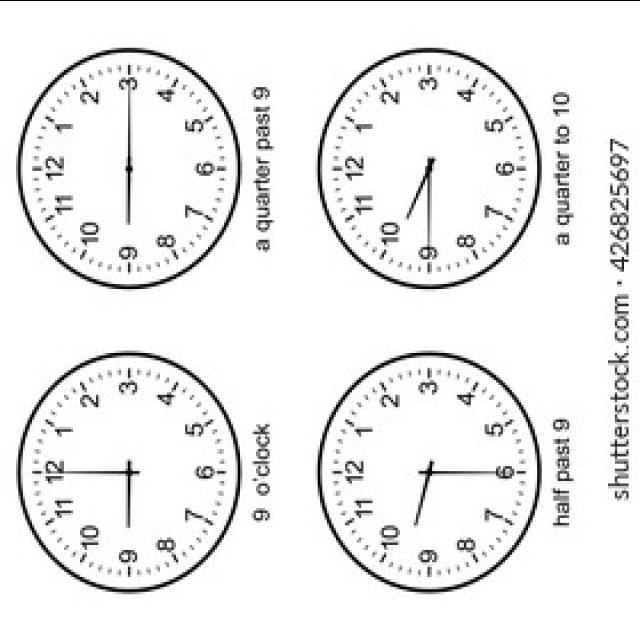clock: (48, 309, 308, 615)
